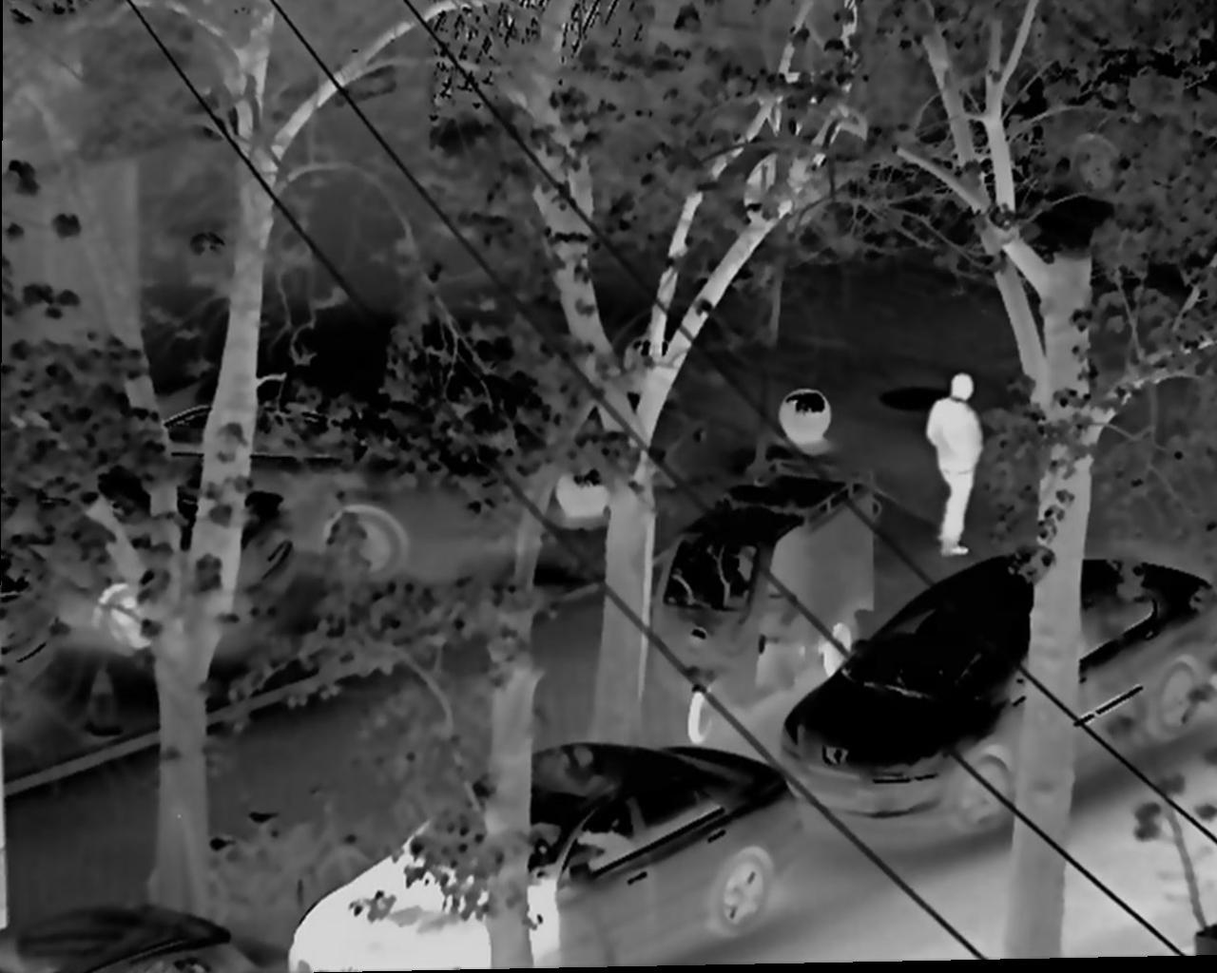person: (924, 359, 989, 564)
